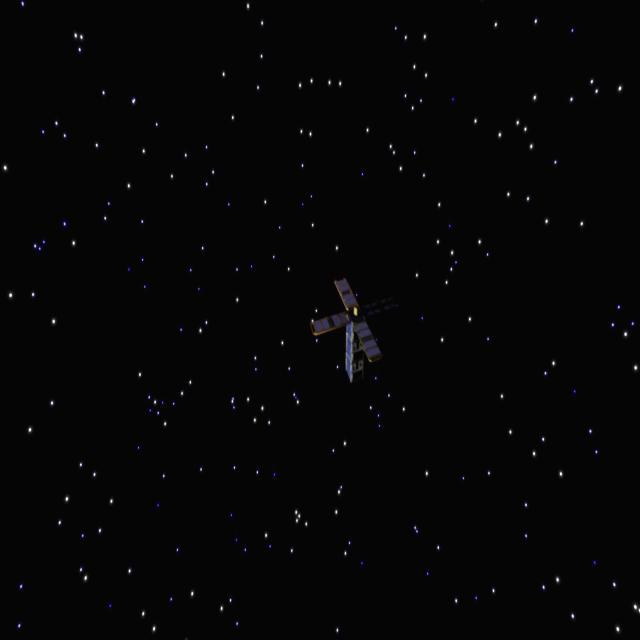medium_debris: (305, 273, 381, 387)
